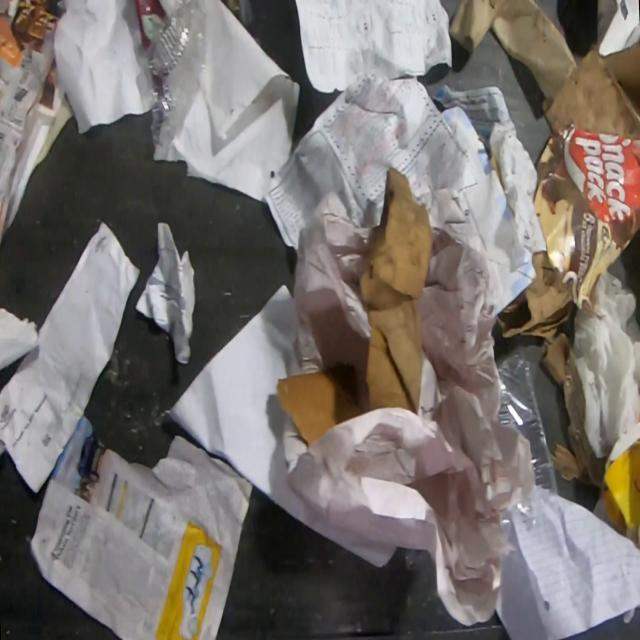cardboard: (532, 125, 640, 317), (359, 164, 432, 415), (448, 0, 578, 97), (538, 36, 640, 138), (276, 361, 362, 449), (496, 249, 574, 345), (600, 416, 640, 532)
rigid_plastic: (494, 347, 560, 544), (135, 0, 208, 163)
soft_plastic: (569, 269, 640, 459)
